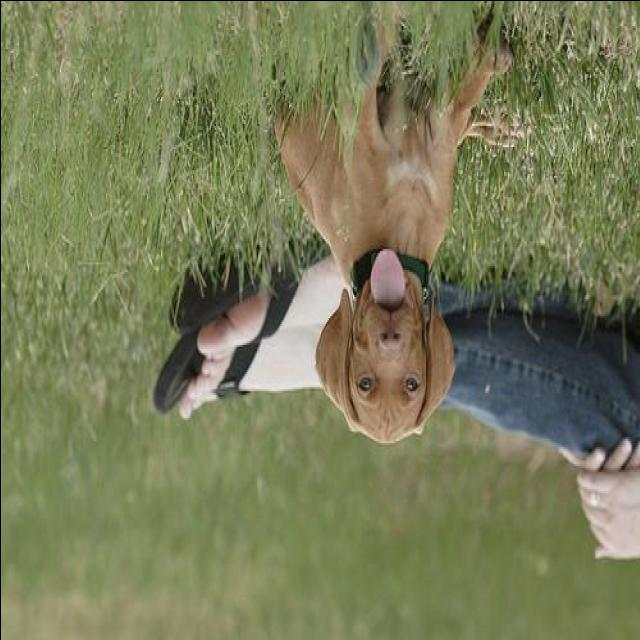vizsla: (268, 2, 526, 446)
